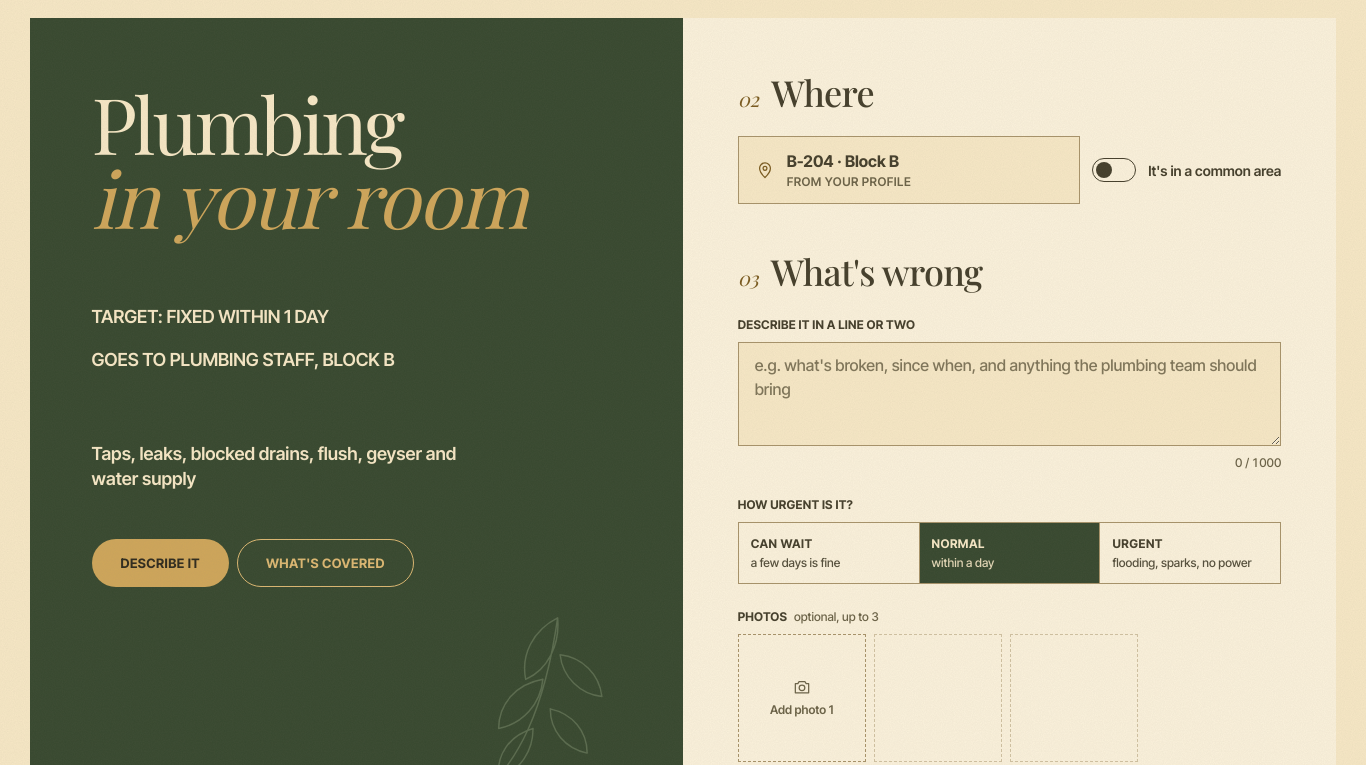
it: Raise a complaint › warns about an open ticket for the same room, then raises anyway with confirmDuplicate
(page scrolled)
Type "Tap drips all night and keeps me awake" into the text box labelled "Describe it in a line or two".
click(1009, 394); type("Tap drips all night and keeps me awake")  # box [738,342,1281,446]
(page scrolled)
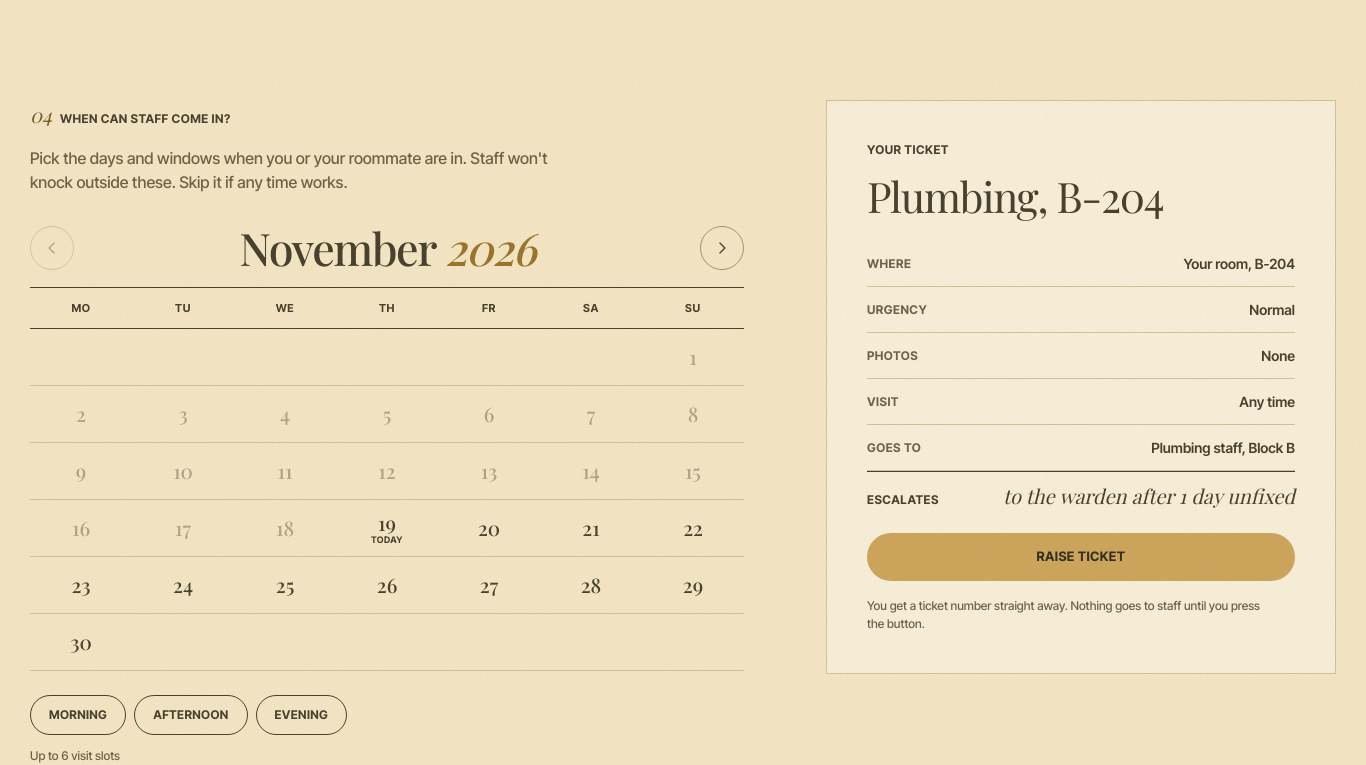
Click the button "Raise ticket".
click(1081, 557)  # box [867,533,1295,581]
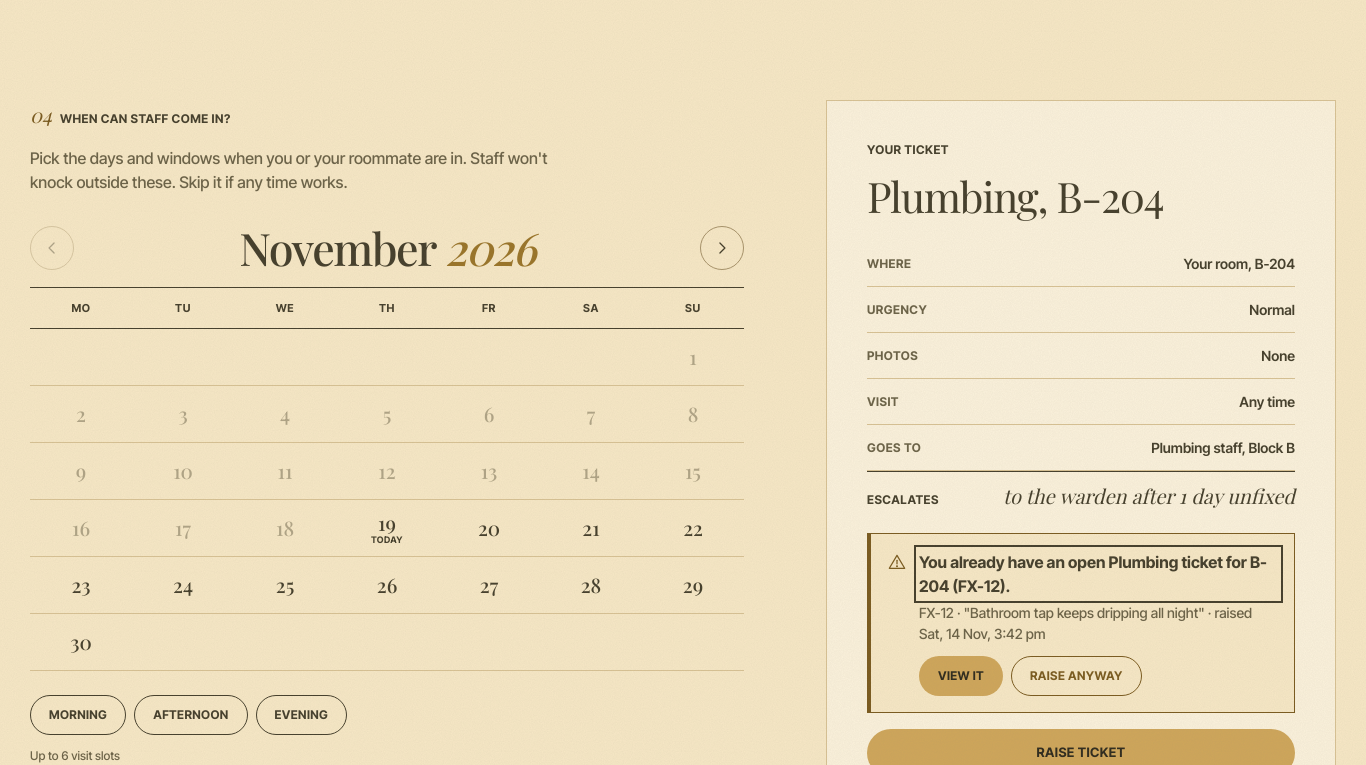
Now the text "You already have an open Plumbing ticket for B-204 (FX-12)." is shown, box [919,550,1278,598]
Click the button "Raise anyway".
click(1076, 676)  # box [1011,656,1142,696]
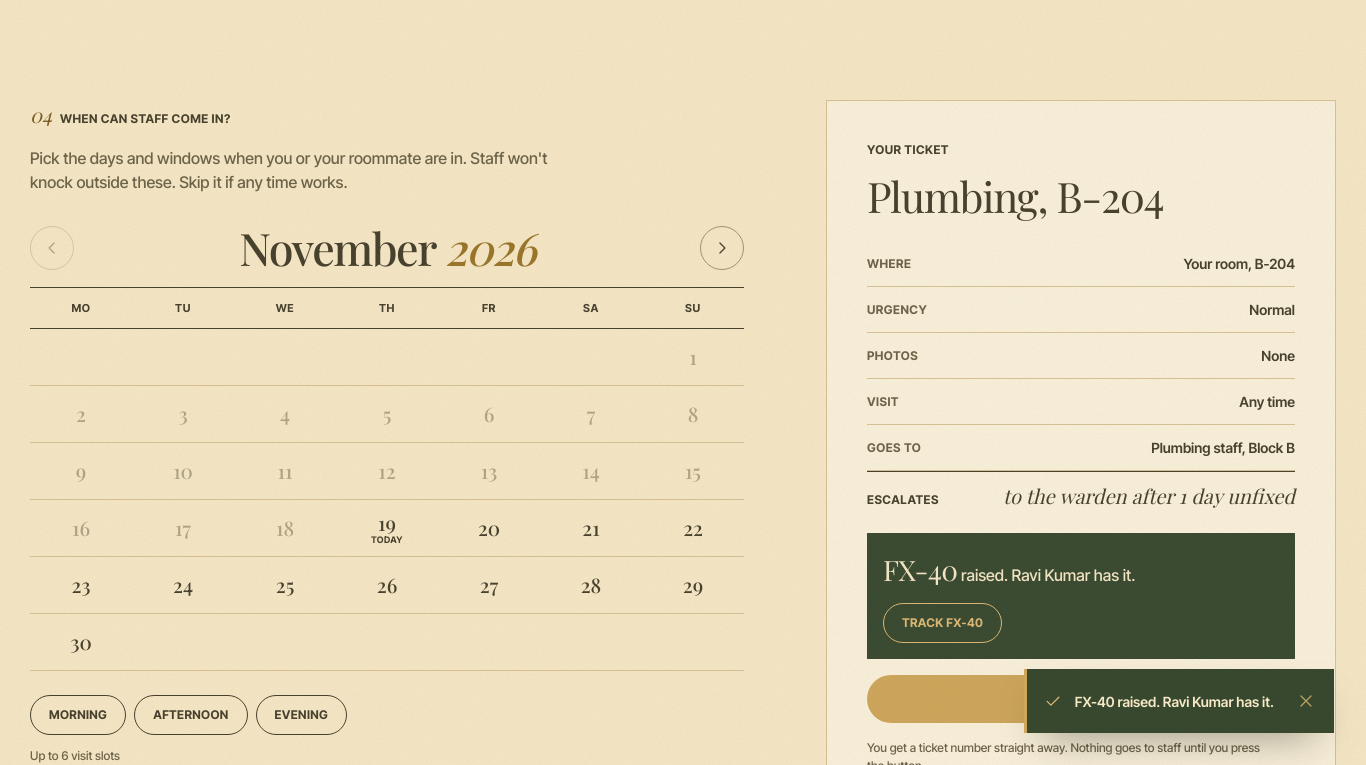
Now the text "FX-40 raised. Ravi Kumar has it." is shown, box [1075,690,1274,712]
